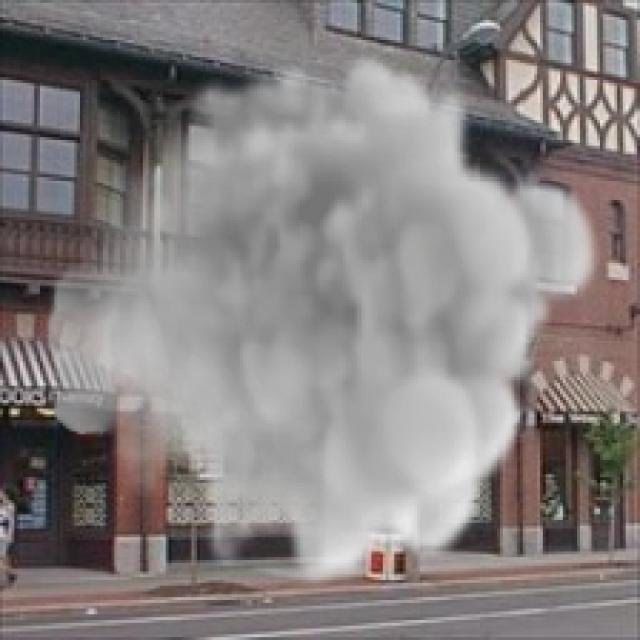Smoke: (43, 51, 606, 588)
